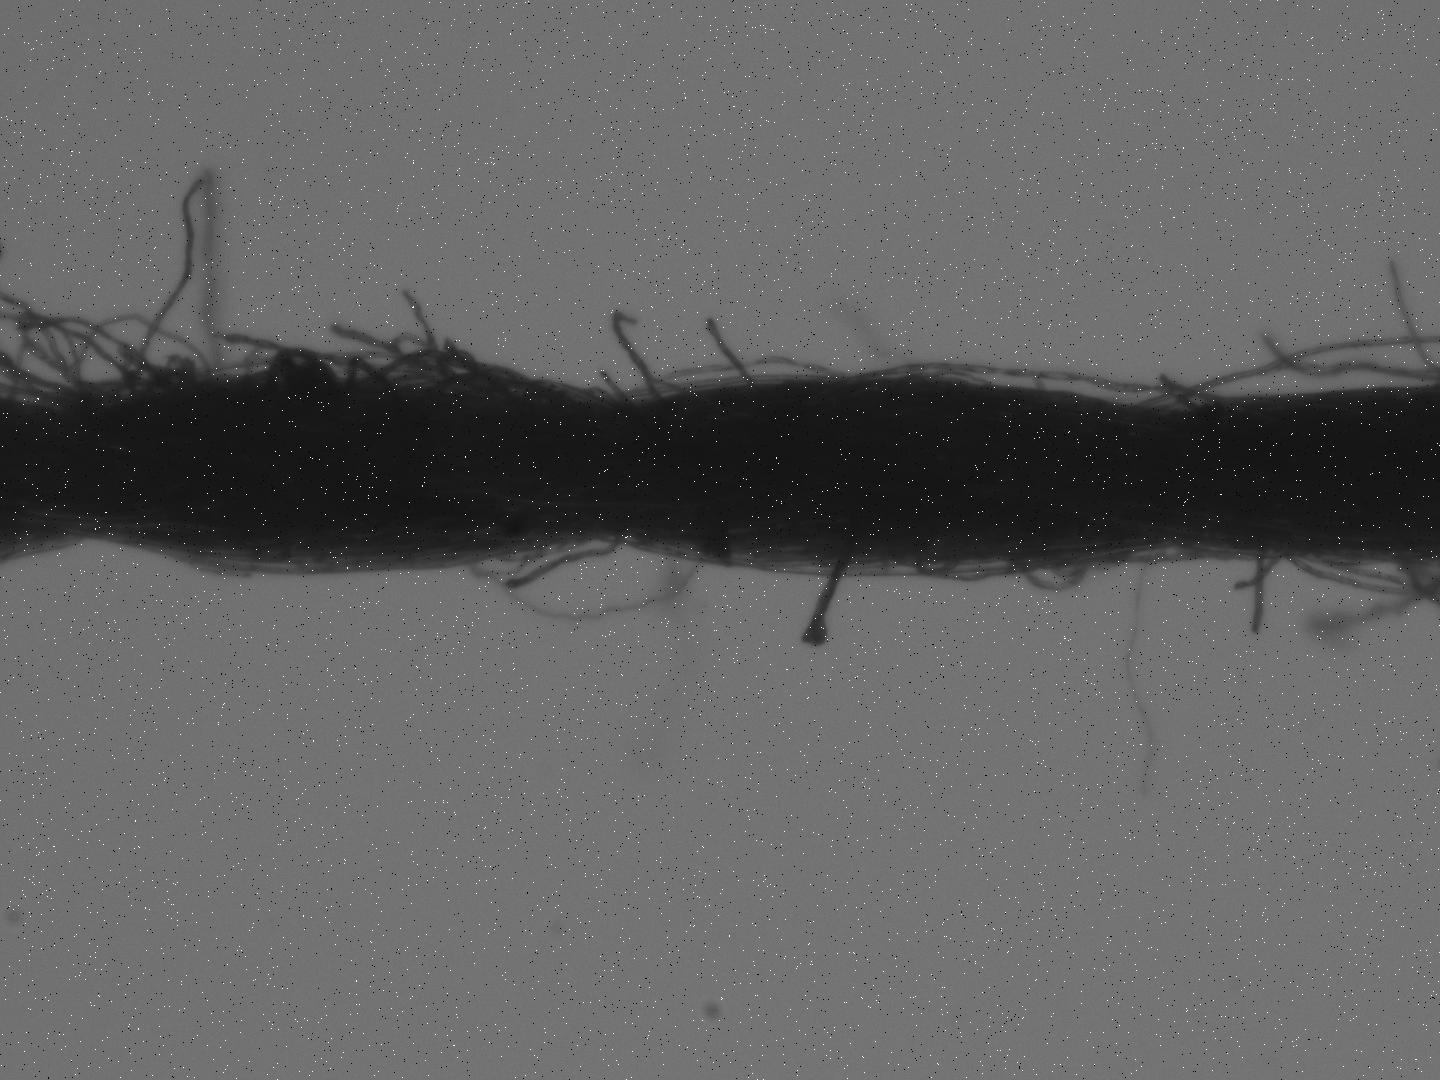loop_fiber: (849, 358, 1239, 404), (69, 313, 219, 390), (630, 354, 842, 400), (370, 348, 514, 403), (892, 552, 1079, 582), (1019, 555, 1099, 587), (348, 352, 405, 393), (266, 346, 336, 378)
protruding_fiber: (798, 546, 861, 646), (701, 317, 757, 383), (1252, 545, 1271, 639)
